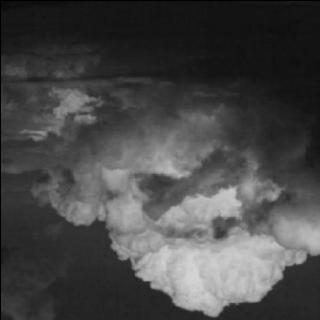Cumulonimbus: (0, 46, 320, 316)
